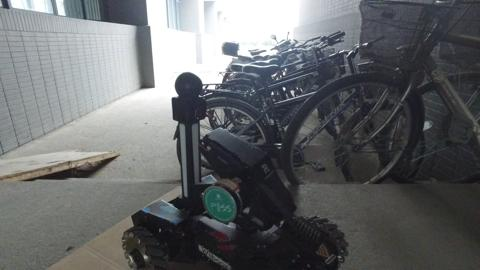bike: (242, 22, 472, 180)
chariot: (126, 71, 345, 270)
